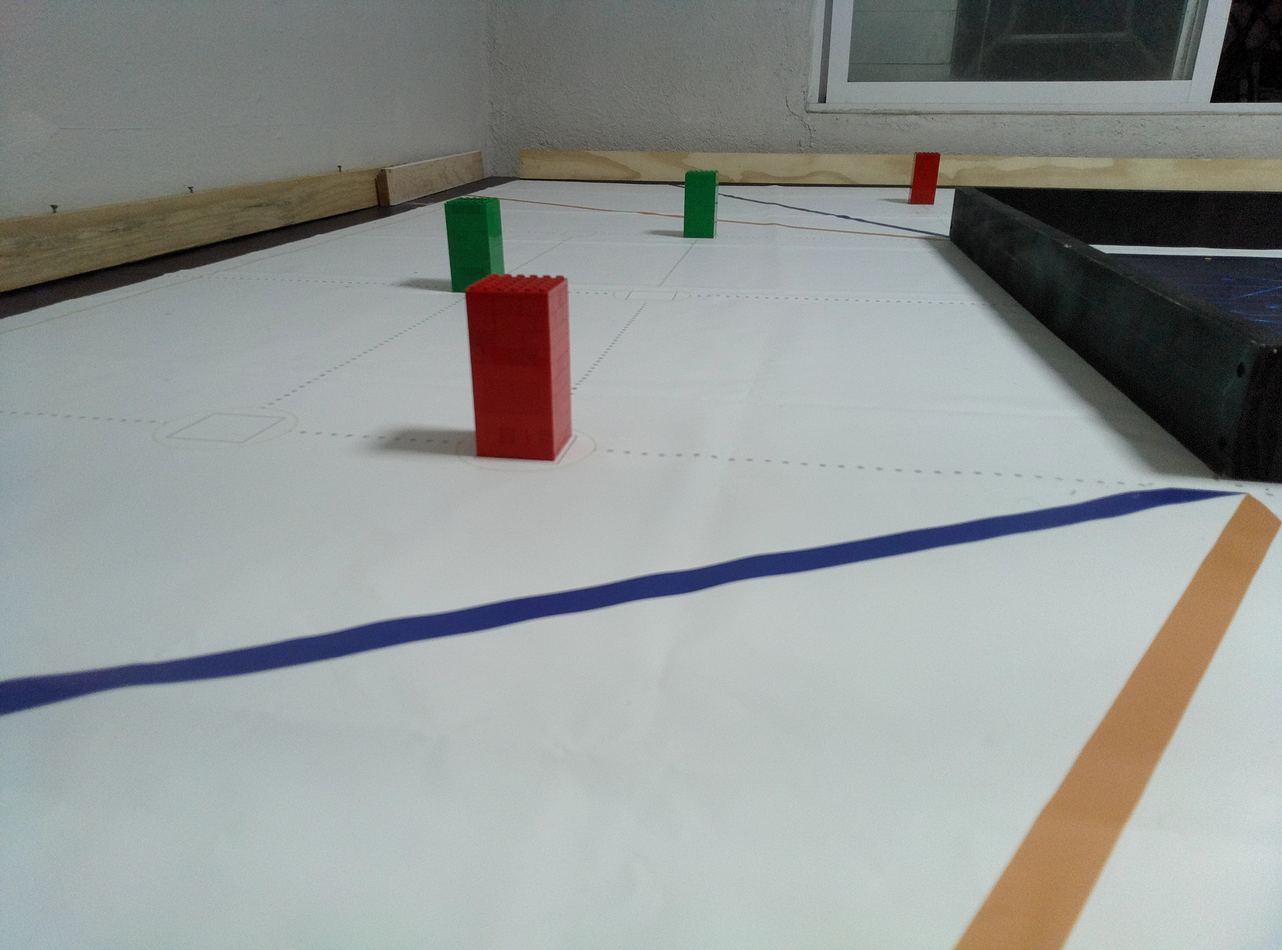greenbox: (444, 196, 506, 293), (684, 170, 718, 238)
redbox: (465, 273, 572, 461), (907, 152, 941, 204)
